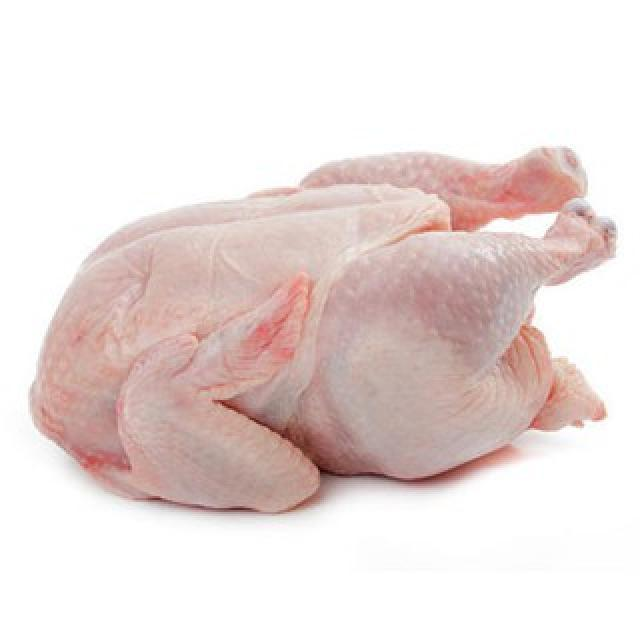chicken: (31, 151, 615, 511)
